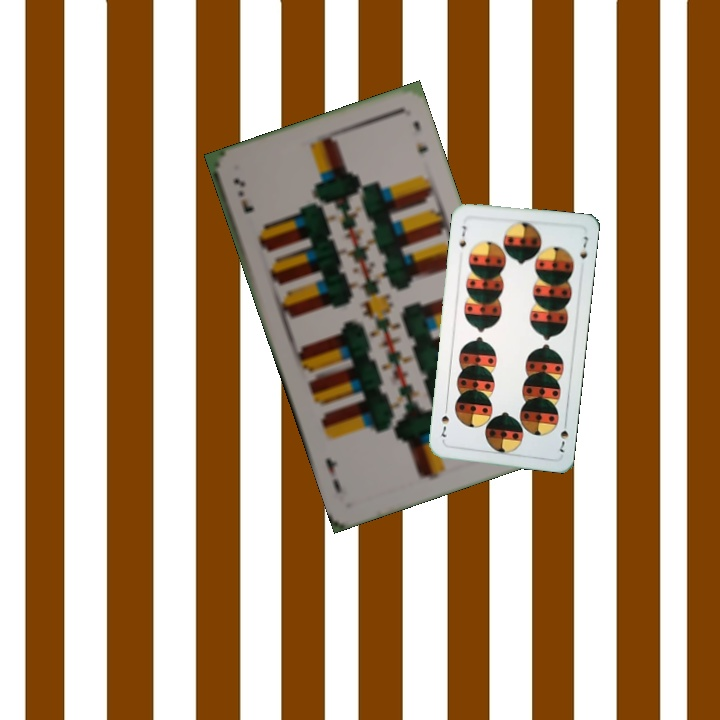E7: (228, 174, 257, 216)
S7: (555, 416, 571, 455), (455, 221, 469, 253)
